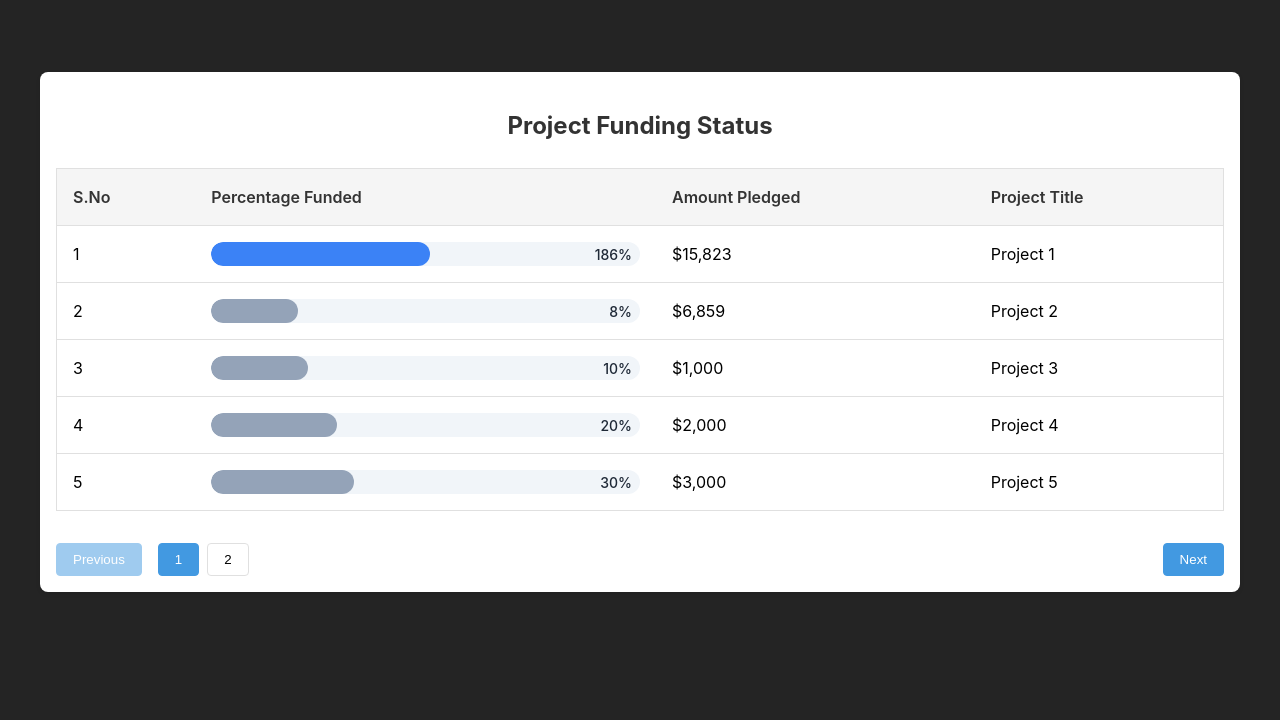
Test: ProjectTable Component › Pagination › disables next button on last page
The width and height of the screenshot is (1280, 720).
// Navigate to last page
Click the button with test id "page-2-button". click: (228, 559)
box: x1=207 y1=543 x2=249 y2=576
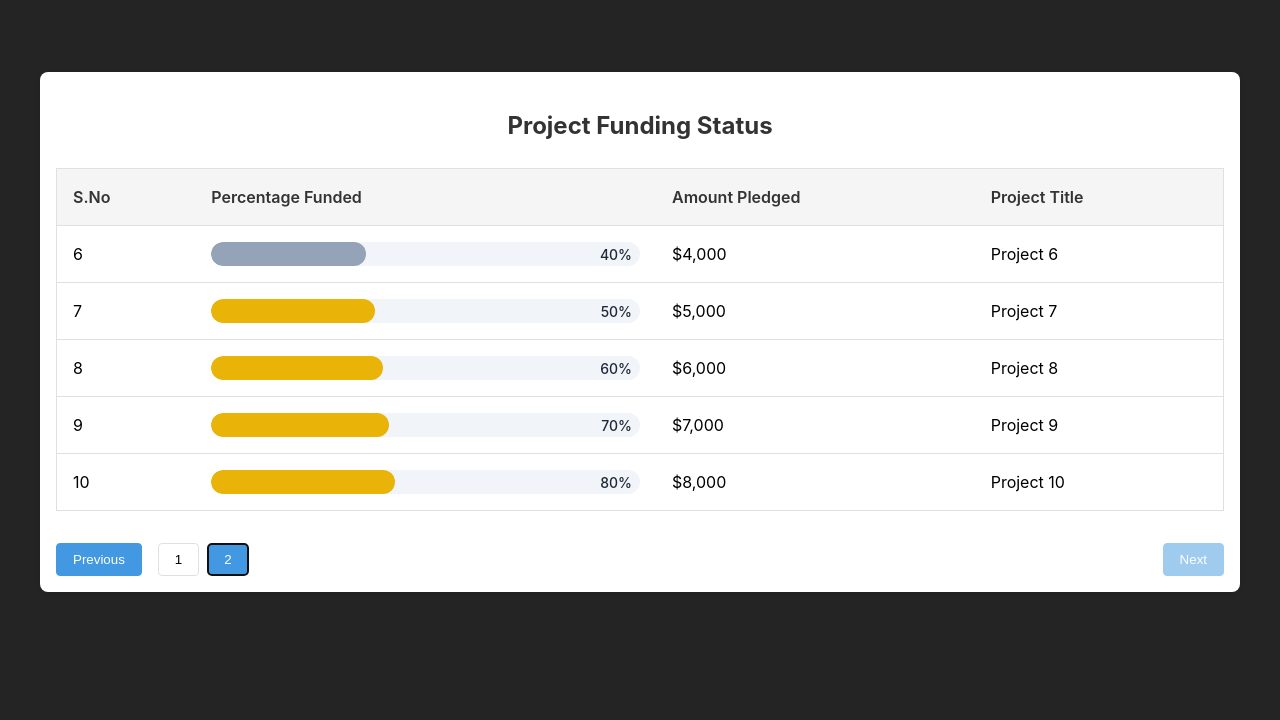
Now the button "Next" is disabled, box x1=1163 y1=543 x2=1224 y2=576
